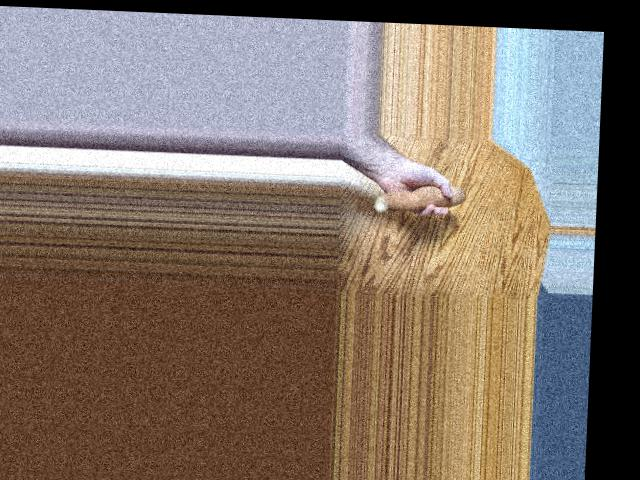sweet_potato: (371, 178, 473, 213)
